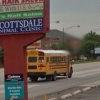buses: (25, 50, 74, 81)
